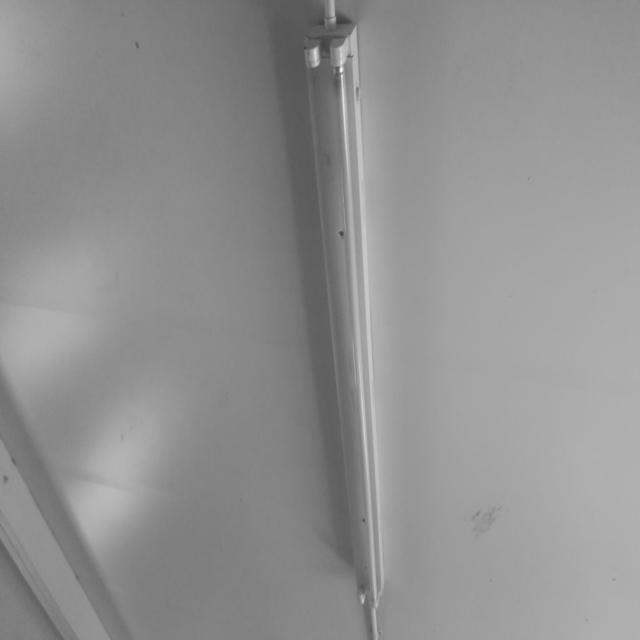light: (297, 19, 386, 611)
